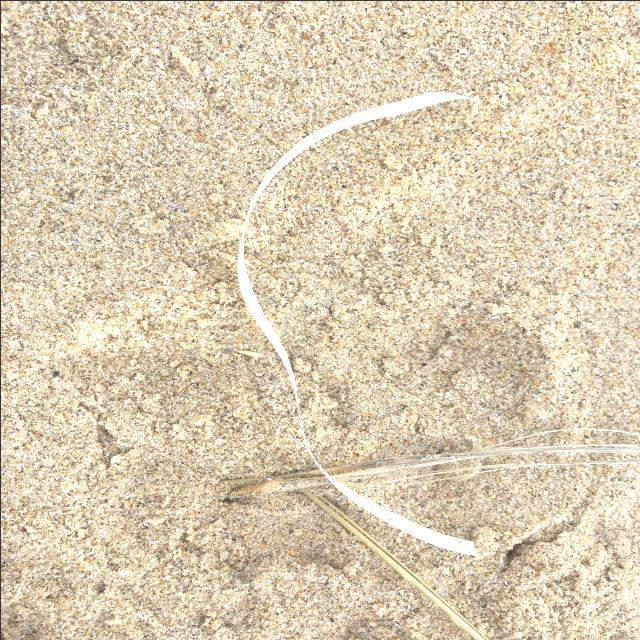Rope - strings: (237, 91, 477, 555)
